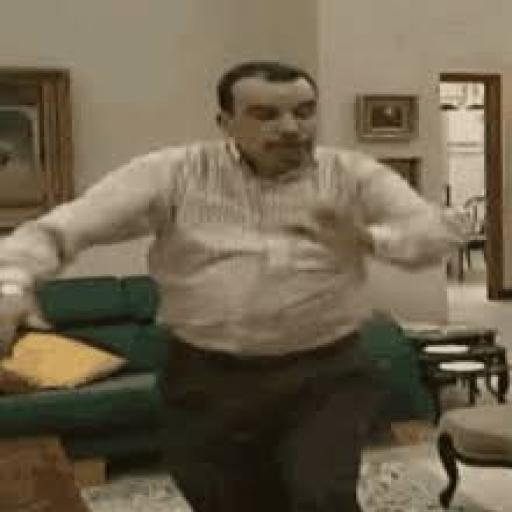slimane: (216, 60, 317, 171)
